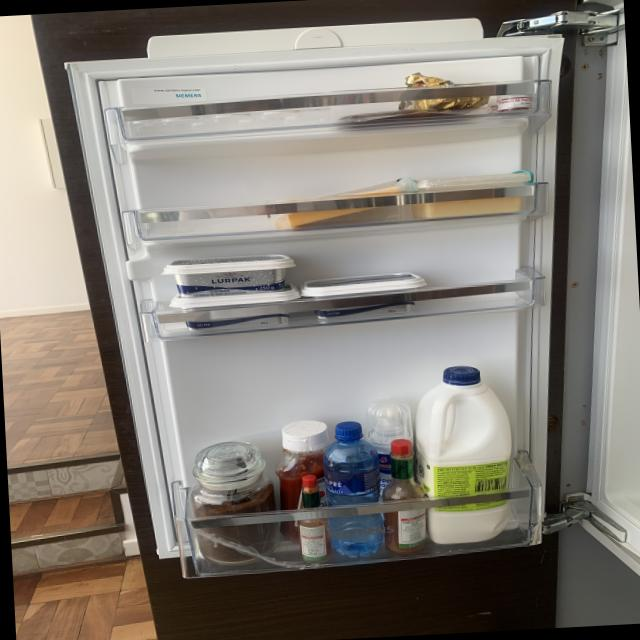Leche: (419, 362, 514, 546)
Mantequilla: (313, 275, 417, 322), (172, 256, 292, 296), (183, 292, 295, 333), (396, 70, 490, 112)
Queso: (286, 185, 405, 228), (415, 182, 527, 218)
